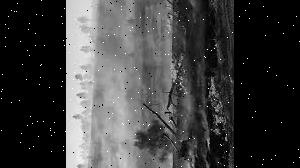fire: (205, 70, 230, 139), (165, 53, 185, 93)
